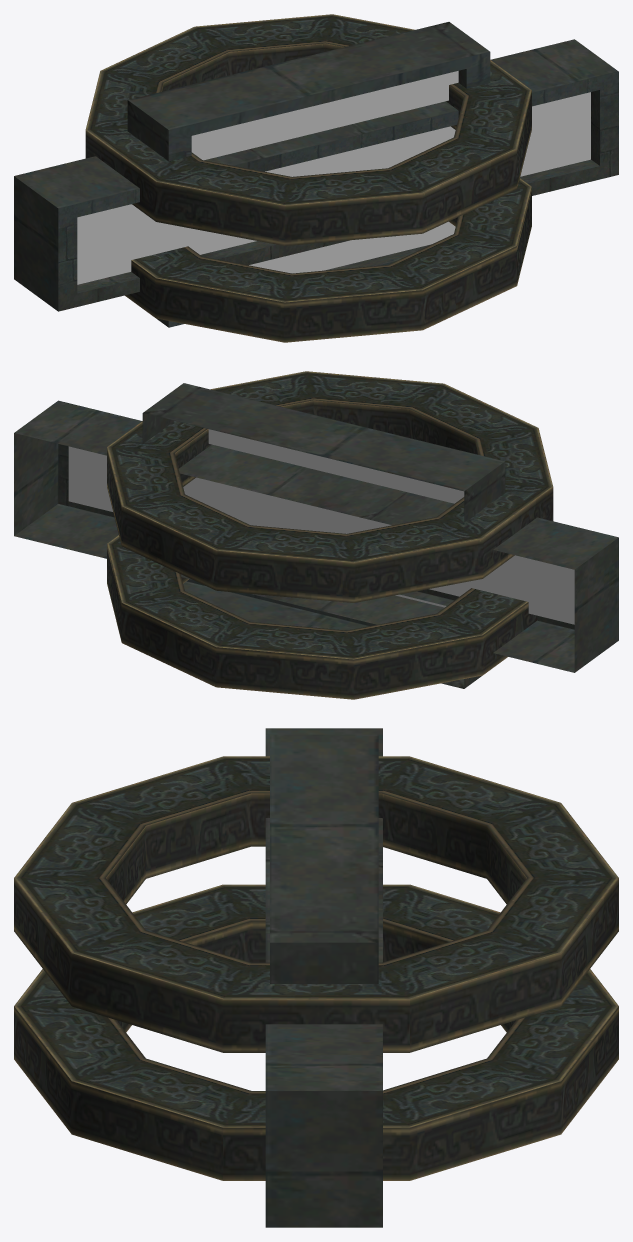
The model's file is environment_Building_yingdi_hantianta_002_f.FBX.
The picture shows the model from 3 angles, top to bottom: view 1: azimuth 30°, elevation 25°; view 2: azimuth 150°, elevation 25°; view 3: azimuth 270°, elevation 25°; orthographic projection. The views are drawn at different scales.
Visible parts, largest first — view 1: environment_Building_yingdi_hantianta_002_f01, environment_Building_yingdi_hantianta_002_f02; view 2: environment_Building_yingdi_hantianta_002_f01, environment_Building_yingdi_hantianta_002_f02; view 3: environment_Building_yingdi_hantianta_002_f01.
Part boxes in pixels (left/top/right/bottom): environment_Building_yingdi_hantianta_002_f01: left=14, top=14, right=618, bottom=342; environment_Building_yingdi_hantianta_002_f02: left=77, top=71, right=590, bottom=284; environment_Building_yingdi_hantianta_002_f01: left=14, top=371, right=618, bottom=699; environment_Building_yingdi_hantianta_002_f02: left=68, top=429, right=574, bottom=624; environment_Building_yingdi_hantianta_002_f01: left=14, top=728, right=618, bottom=1227.
Bounding box in the file's own units: 2394 × 1687 × 807.
